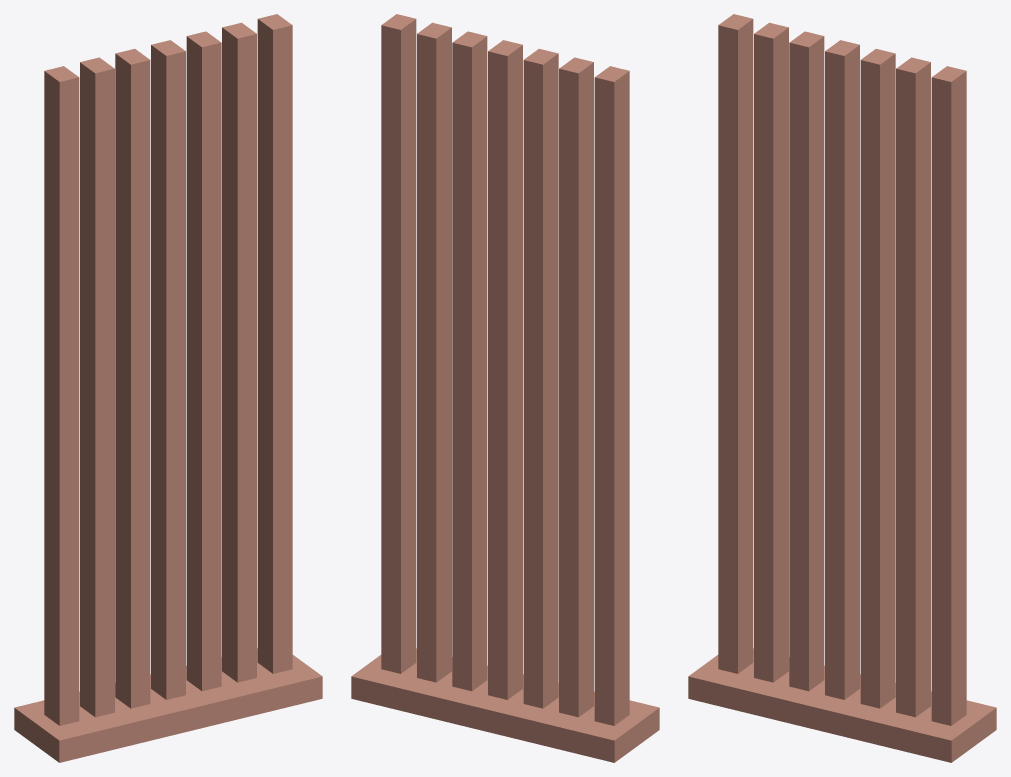
3 views of the same model, side by side, from view 1: azimuth 30°, elevation 25°; view 2: azimuth 150°, elevation 25°; view 3: azimuth 330°, elevation 25° (orthographic).
Visible parts, largest first — view 1: Vertical wood slat, Vertical wood slat.002, Vertical wood slat.004, Vertical wood slat.006, Vertical wood slat.001, Vertical wood slat.003, Vertical wood slat.005, Acoustic panel foot; view 2: Vertical wood slat, Vertical wood slat.002, Vertical wood slat.004, Vertical wood slat.006, Vertical wood slat.001, Vertical wood slat.003, Vertical wood slat.005, Acoustic panel foot; view 3: Vertical wood slat, Vertical wood slat.002, Vertical wood slat.004, Vertical wood slat.006, Vertical wood slat.003, Vertical wood slat.005, Vertical wood slat.001, Acoustic panel foot.
Boxes of the visible parts, bbox=[...] form: Vertical wood slat: bbox=[44, 66, 79, 725]; Vertical wood slat.002: bbox=[115, 49, 150, 708]; Vertical wood slat.004: bbox=[186, 31, 221, 691]; Vertical wood slat.006: bbox=[257, 14, 292, 673]; Vertical wood slat.001: bbox=[80, 57, 114, 717]; Vertical wood slat.003: bbox=[151, 40, 185, 699]; Vertical wood slat.005: bbox=[222, 22, 256, 682]; Acoustic panel foot: bbox=[14, 648, 322, 762]; Vertical wood slat: bbox=[594, 66, 629, 725]; Vertical wood slat.002: bbox=[523, 49, 558, 708]; Vertical wood slat.004: bbox=[452, 31, 487, 691]; Vertical wood slat.006: bbox=[381, 14, 416, 673]; Vertical wood slat.001: bbox=[559, 57, 593, 717]; Vertical wood slat.003: bbox=[488, 40, 522, 699]; Vertical wood slat.005: bbox=[417, 22, 451, 682]; Acoustic panel foot: bbox=[351, 648, 659, 762]; Vertical wood slat: bbox=[718, 14, 753, 673]; Vertical wood slat.002: bbox=[789, 31, 824, 691]; Vertical wood slat.004: bbox=[860, 49, 895, 708]; Vertical wood slat.006: bbox=[931, 66, 966, 725]; Vertical wood slat.003: bbox=[825, 40, 859, 699]; Vertical wood slat.005: bbox=[896, 57, 930, 717]; Vertical wood slat.001: bbox=[754, 22, 788, 682]; Acoustic panel foot: bbox=[688, 648, 996, 762].
Size of the model in its own units: 74 by 179 by 22.
